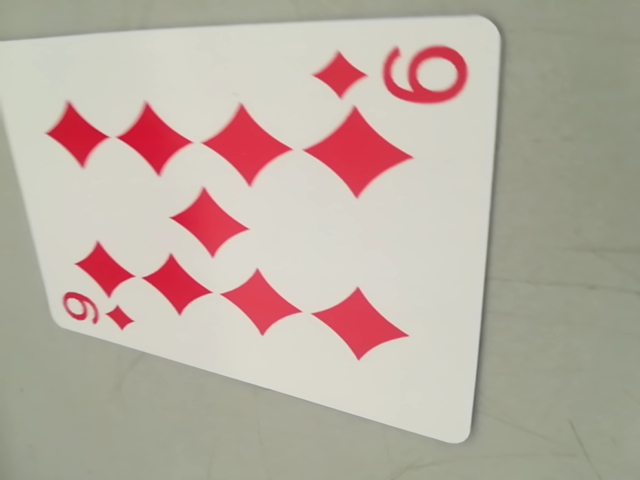fk 9: (313, 32, 472, 118), (54, 287, 141, 337)
